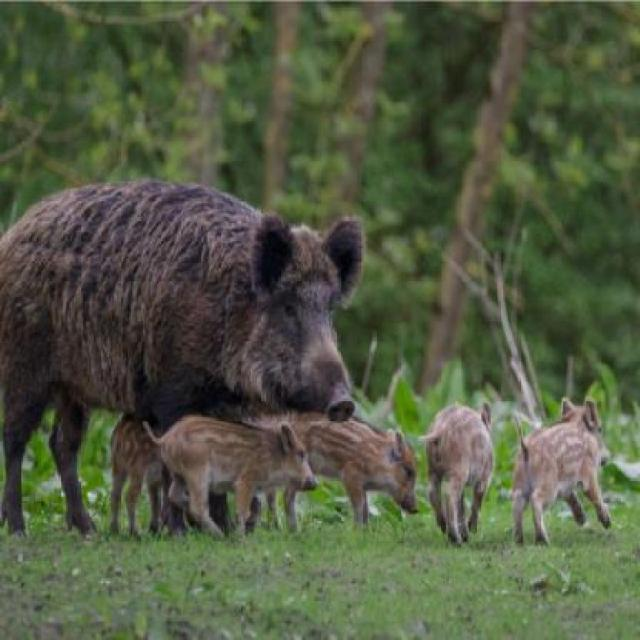wildboar: (0, 172, 375, 541), (140, 406, 322, 536), (254, 410, 429, 539), (504, 392, 622, 554), (99, 394, 219, 548), (414, 393, 503, 549)
